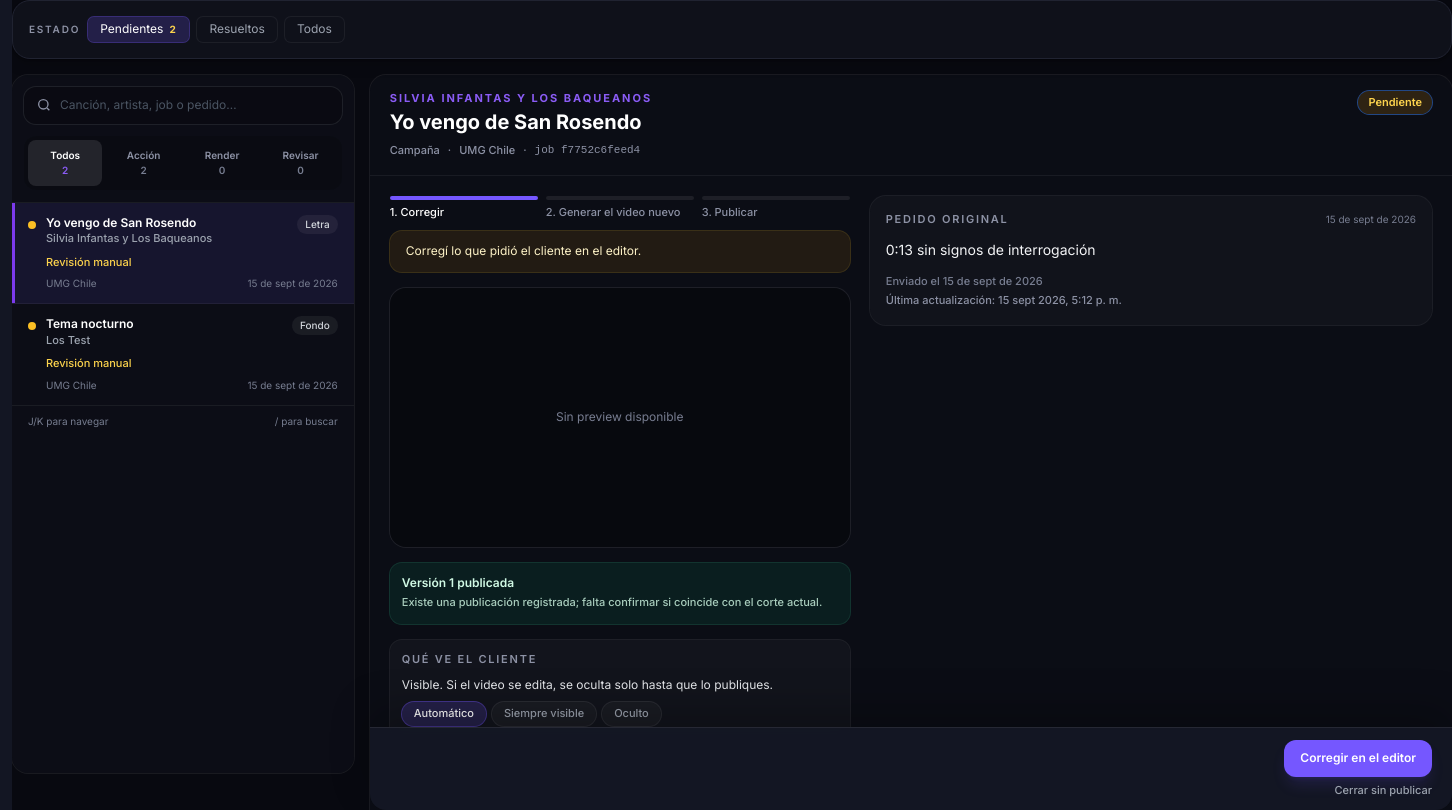
it: ChangeRequestsPanel › searches the queue and supports J/K navigation
This screenshot has width=1452, height=810.
Press j
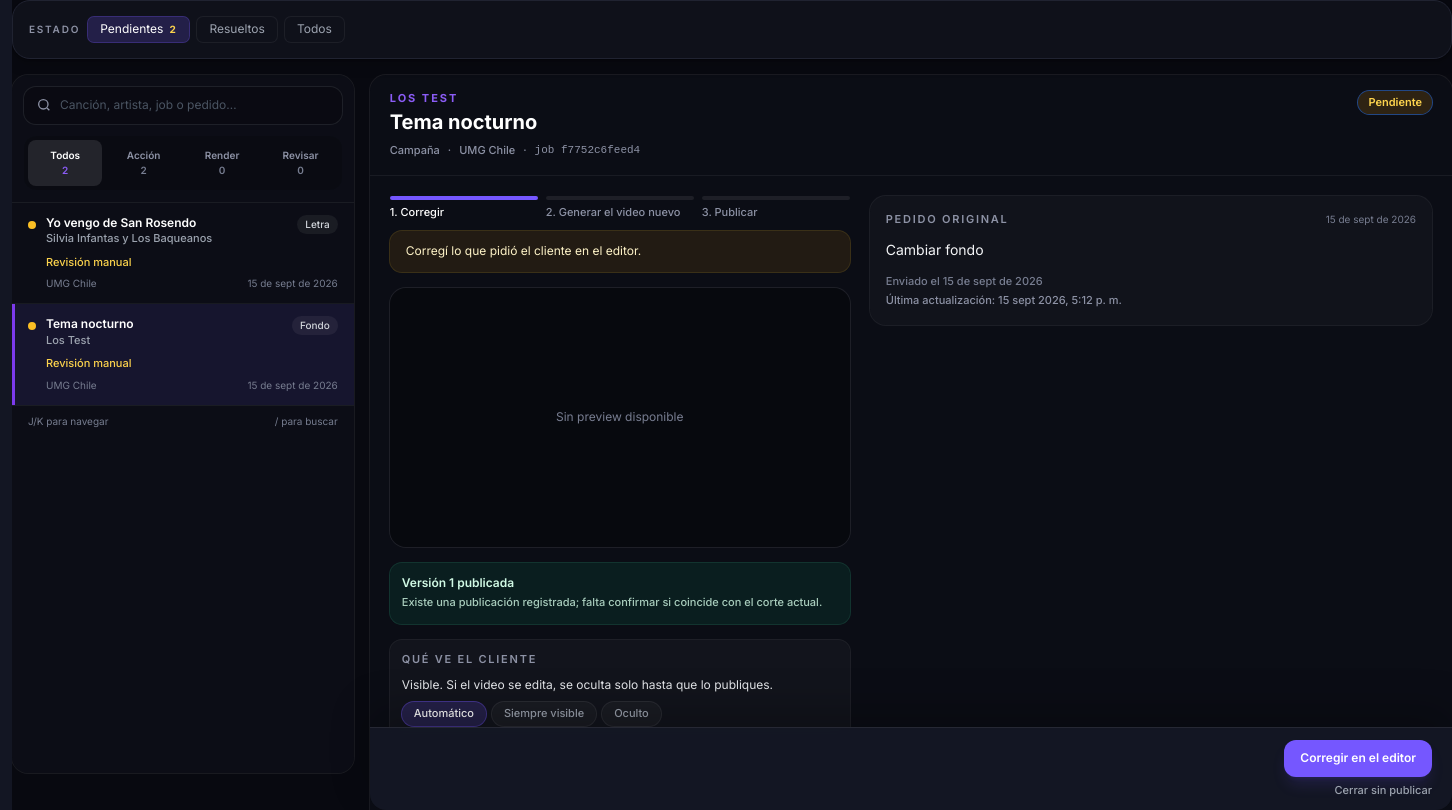
Check: the heading "Tema nocturno" is shown, box [390,110,537,134]
Type "San Rosendo" into the search field named "Buscar pedidos" at (183, 105), box [24,87,342,124]
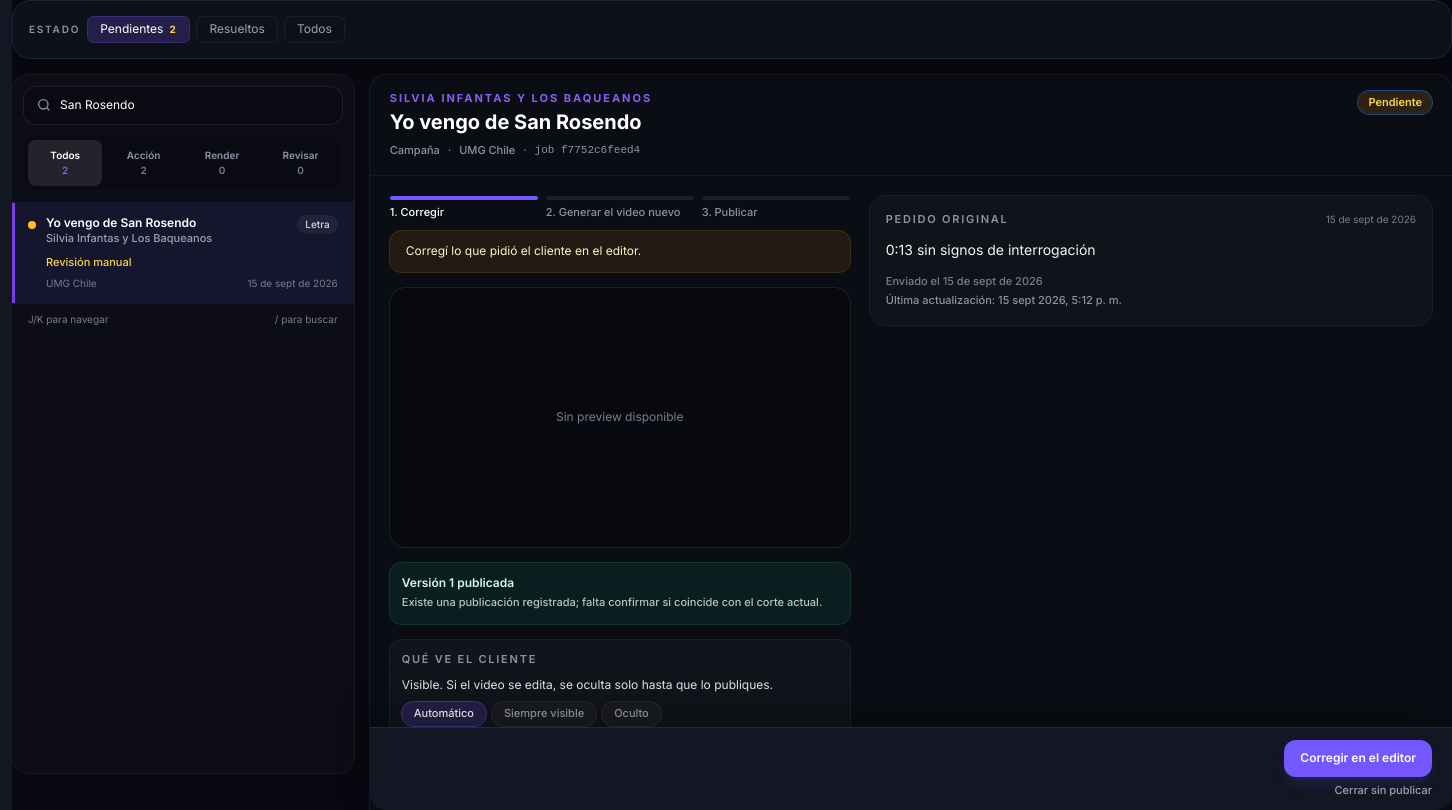
Check: the option "Tema nocturno" is gone
Check: the heading "Yo vengo de San Rosendo" is shown, box [390,110,652,135]
